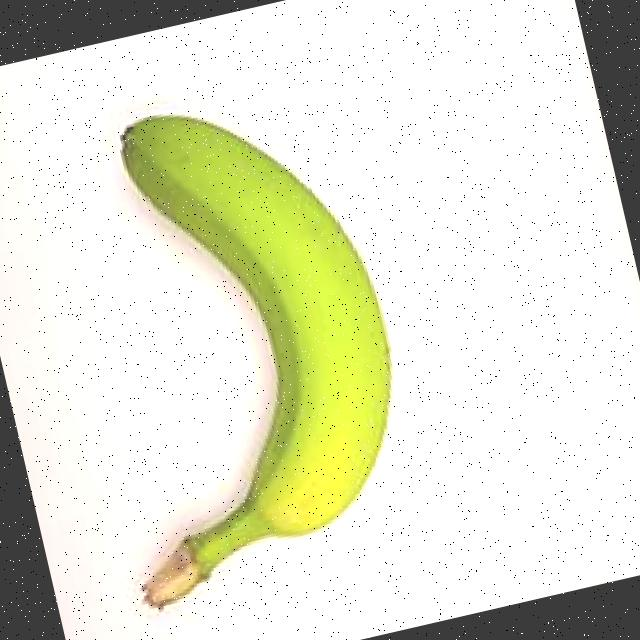Unripe: (2, 46, 494, 625)
